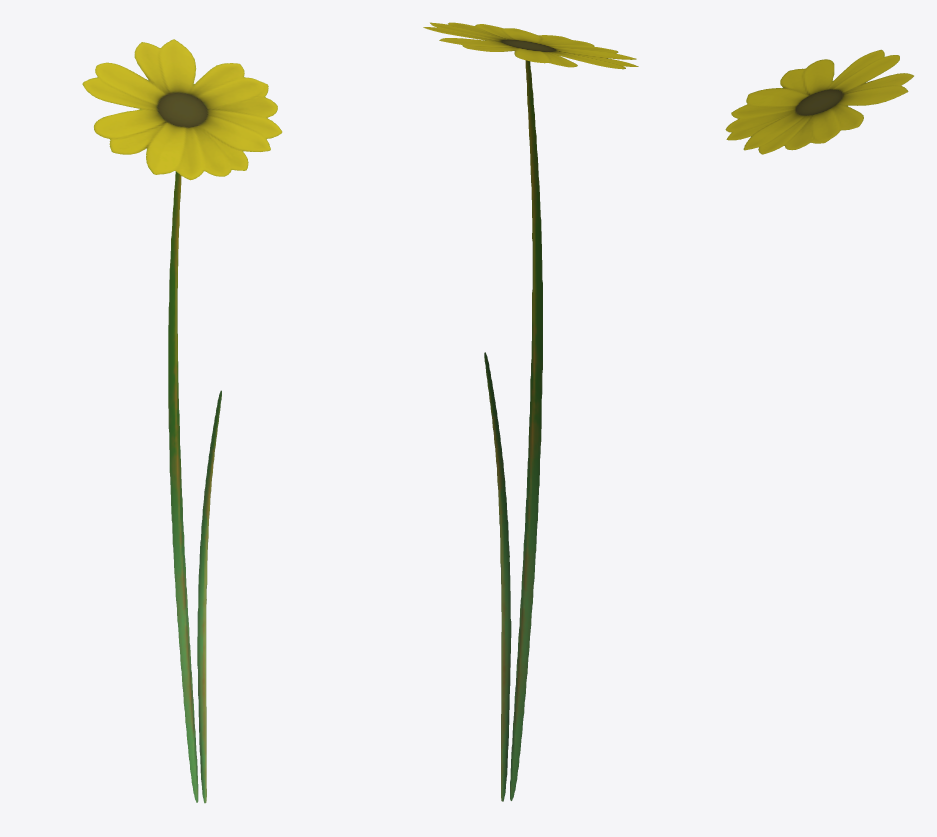
The model's file is SM_Flower01.FBX.
The picture shows the model from 3 angles, left to right: view 1: azimuth 30°, elevation 25°; view 2: azimuth 150°, elevation 25°; view 3: azimuth 270°, elevation 25°; orthographic projection. The views are drawn at different scales.
Visible parts, largest first — view 1: SM_Flower01; view 2: SM_Flower01; view 3: SM_Flower01.
Part boxes in pixels (left/top/right/bottom): SM_Flower01: left=82, top=39, right=282, bottom=803; SM_Flower01: left=423, top=22, right=638, bottom=801; SM_Flower01: left=725, top=49, right=913, bottom=154.
Size of the model in its own units: 18.2 by 15.77 by 59.91.
